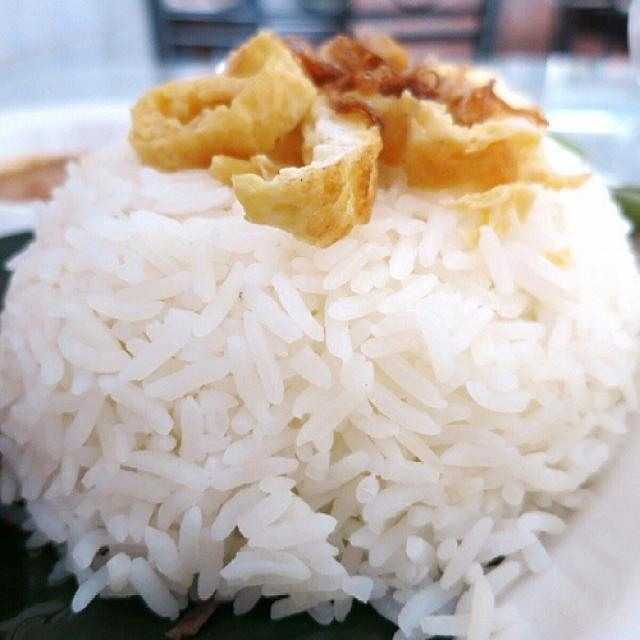米饭主食: (13, 23, 612, 623)
